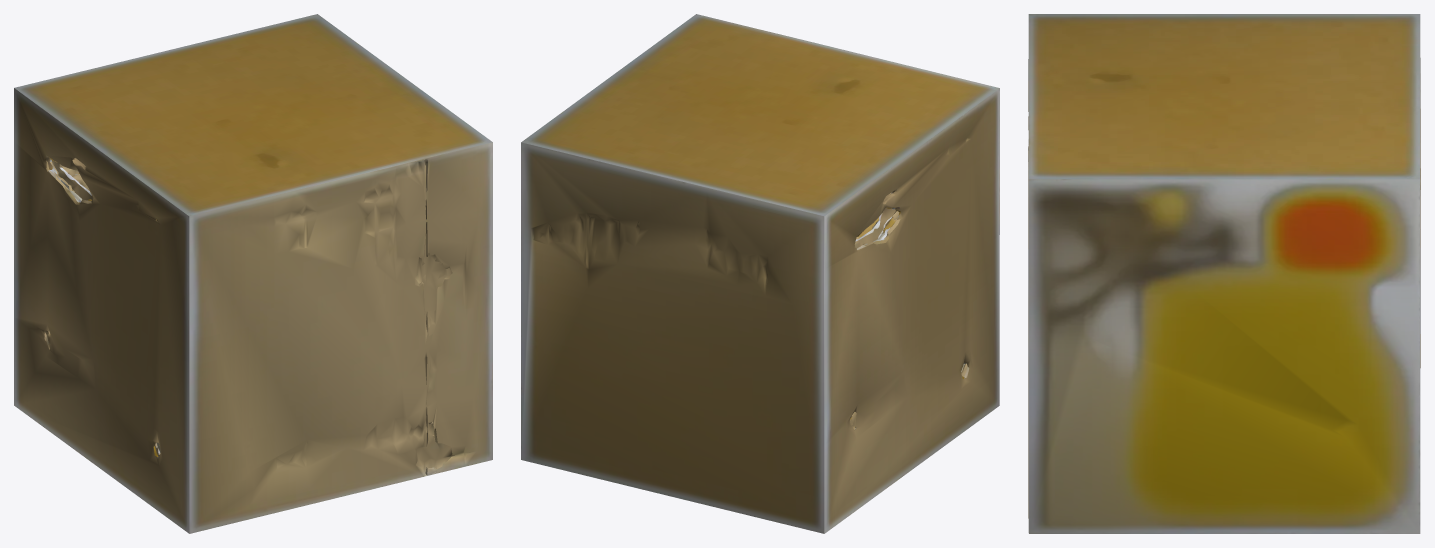
Rendered from cocktail.glb.
3 views of the same model, side by side, from view 1: azimuth 30°, elevation 25°; view 2: azimuth 150°, elevation 25°; view 3: azimuth 270°, elevation 25° (orthographic). The views are drawn at different scales.
Parts seen in each view (by area): view 1: tmpw8xdv9_3.ply; view 2: tmpw8xdv9_3.ply; view 3: tmpw8xdv9_3.ply.
Boxes of the visible parts, x1=… form: tmpw8xdv9_3.ply: x1=14, y1=14, x2=492, y2=533; tmpw8xdv9_3.ply: x1=521, y1=14, x2=999, y2=533; tmpw8xdv9_3.ply: x1=1028, y1=14, x2=1420, y2=533.
Bounding box in the file's own units: 0.9874 × 0.9874 × 0.9878.
Materials: 1 (1 with a texture image).
